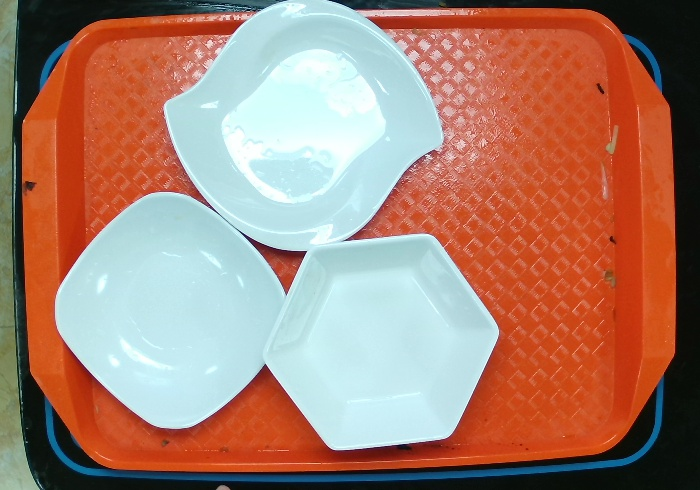RJxy-Liu_Jiao_Wan: (261, 226, 502, 459)
RJxy-Shuang_Jiao_Pan: (158, 1, 448, 255)
RJxy-Si_Fang_Wan: (47, 187, 292, 436)
